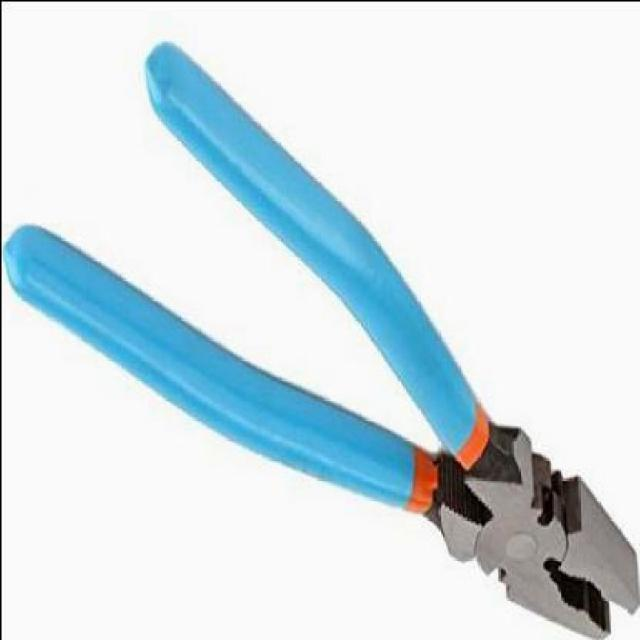pliers: (6, 41, 636, 638)
